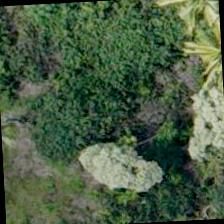Kelapa_Sawit: (157, 0, 221, 50)
